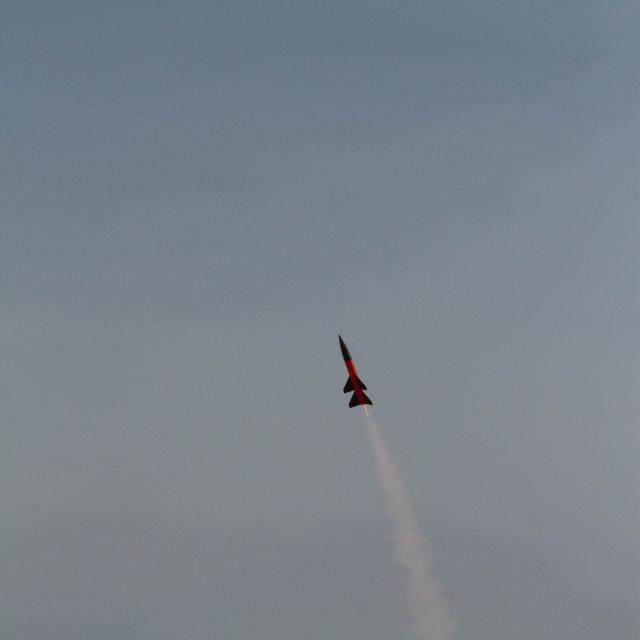Rocket: (338, 334, 374, 408)
